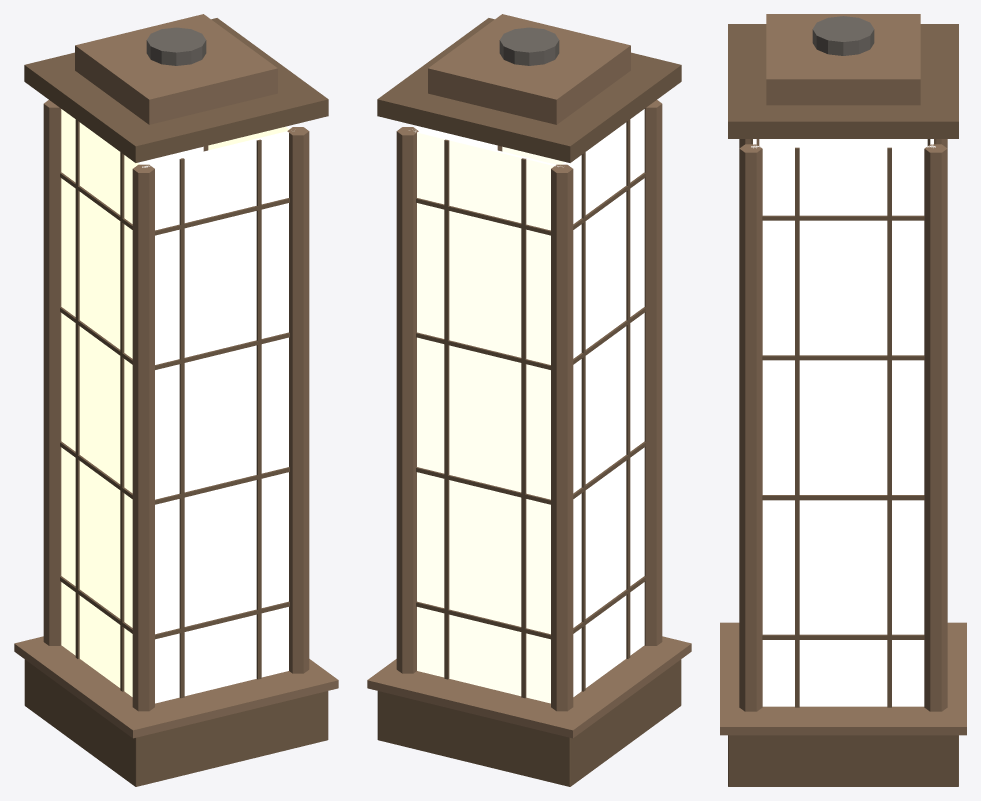
File: oil_lamp.glb
3 renders of one model, left to right at view 1: azimuth 30°, elevation 25°; view 2: azimuth 150°, elevation 25°; view 3: azimuth 270°, elevation 25°, orthographic. The views are drawn at different scales.
Parts seen in each view (by area): view 1: oil_lamp; view 2: oil_lamp; view 3: oil_lamp.
Part boxes in pixels (<box>): oil_lamp: <box>14,14,338,786</box>; oil_lamp: <box>367,14,691,786</box>; oil_lamp: <box>720,14,966,786</box>.
Size of the model in its own units: 0.32 by 1.01 by 0.32.
